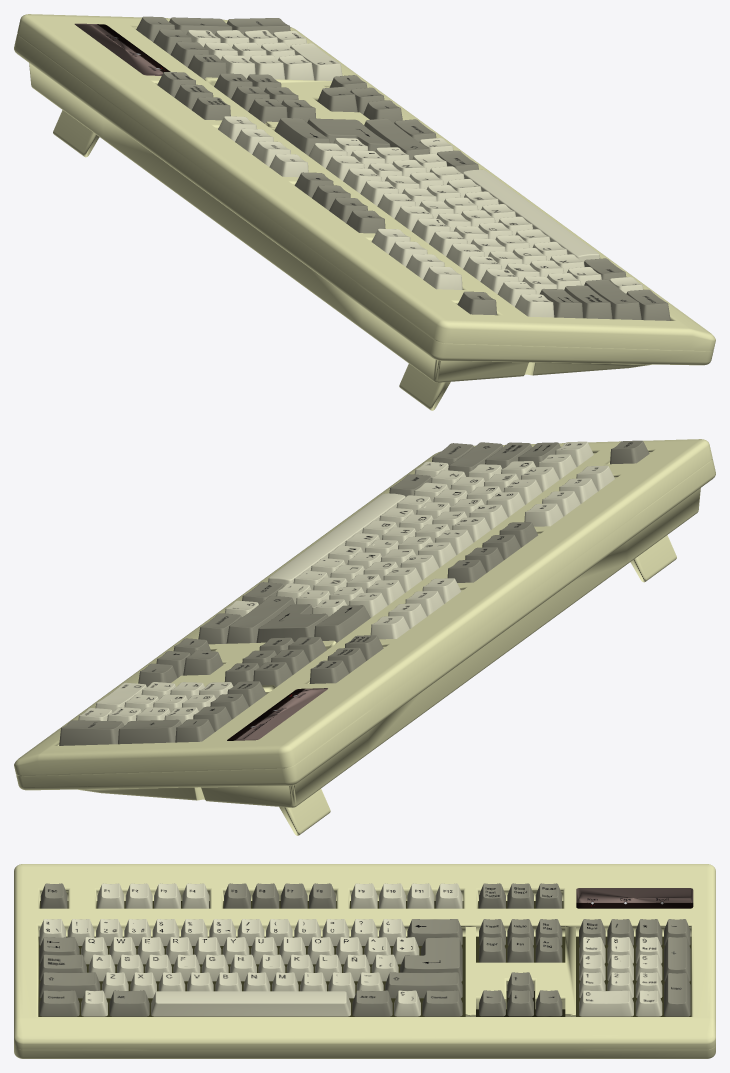
File: Old Keyboard.obj
3 views of the same model, one above another, from view 1: azimuth 30°, elevation 25°; view 2: azimuth 150°, elevation 25°; view 3: azimuth 270°, elevation 25° (orthographic). The views are drawn at different scales.
Parts seen in each view (by area): view 1: (null); view 2: (null); view 3: (null).
Part boxes in pixels (x1=…): (null): x1=14, y1=14, x2=715, y2=410; (null): x1=14, y1=439, x2=715, y2=835; (null): x1=14, y1=864, x2=715, y2=1058.
Bounding box in the file's own units: 3329 × 1203 × 8648.
